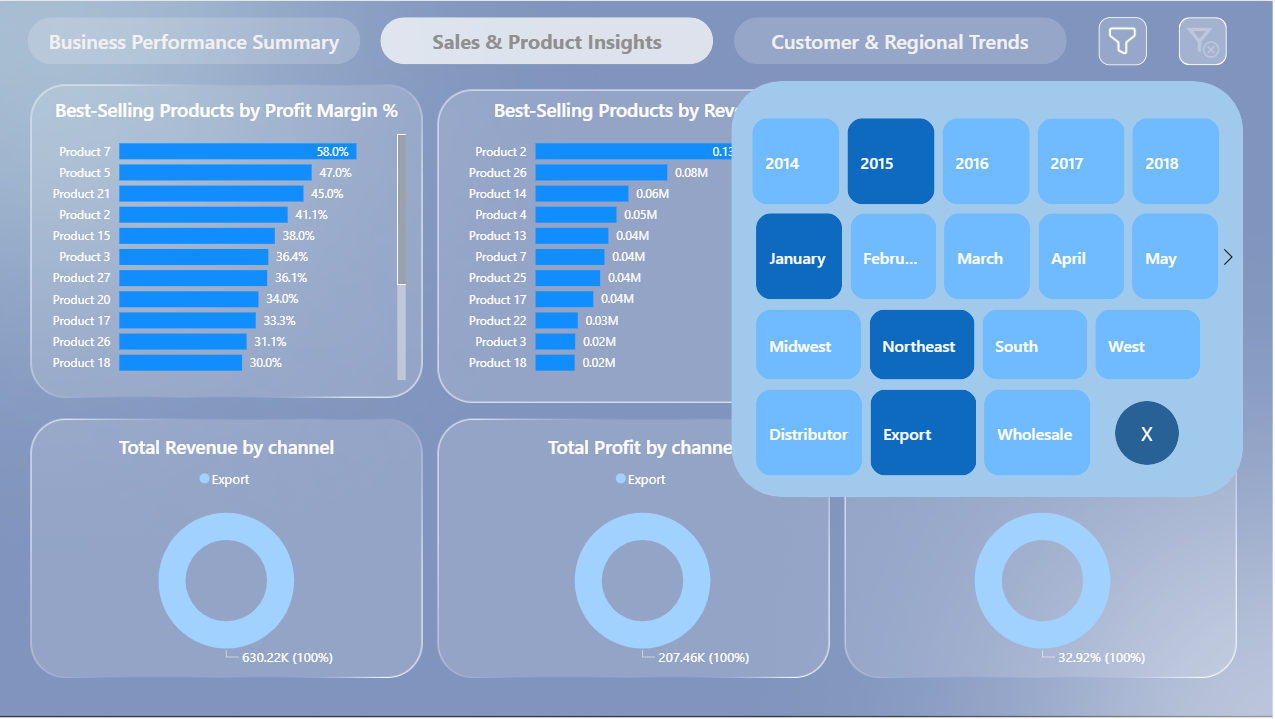

The dashboard page shown, as its layout file describes it:
{"tool":"powerbi","page":{"name":"Sales & Product Insights","canvas":[1280,720],"ordinal":1},"visuals":[{"type":"barChart","title":"Best-Selling Products by Profit Margin %","fields":{"Category":["EDA_MASTER_DATA.product_name"],"Y":["Query1.Profit Margin %"]},"box":[48,96,368,288],"z":0},{"type":"barChart","title":"Best-Selling Products by Revenue","fields":{"Category":["EDA_MASTER_DATA.product_name"],"Y":["Sum(EDA_MASTER_DATA.revenue)"]},"box":[464,96,352,288],"z":1000},{"type":"scatterChart","title":"Profitability (%) by Price Points","fields":{"X":["Customer Summary.Total Revenue"],"Y":["Customer Summary.Avg Profit Margin %"],"Size":["Sum(Customer Summary.Order Count)"]},"box":[864,96,368,288],"z":2000},{"type":"donutChart","fields":{"Category":["EDA_MASTER_DATA.channel"],"Y":["Query1.Total Revenue"]},"box":[48,432,368,240],"z":3000},{"type":"donutChart","fields":{"Category":["EDA_MASTER_DATA.channel"],"Y":["Query1.Profit Margin %"]},"box":[864,432,368,240],"z":4000},{"type":"donutChart","fields":{"Category":["EDA_MASTER_DATA.channel"],"Y":["Query1.Total Profit"]},"box":[464,432,368,240],"z":5000},{"type":"image","box":[1104,16,48,48],"z":6000},{"type":"actionButton","box":[1184,16,48,48],"z":8000},{"type":"pageNavigator","box":[32,16,1040,48],"z":9000}]}

Visuals, with their boxes in screenshot pixels (x1, y1, x2, y2), scaled from the page's 1280x720 canvas onto the 1275x719 screenshot:
"Best-Selling Products by Profit Margin %" barChart: x1=48, y1=96, x2=414, y2=383
"Best-Selling Products by Revenue" barChart: x1=462, y1=96, x2=813, y2=383
"Profitability (%) by Price Points" scatterChart: x1=861, y1=96, x2=1227, y2=383
donutChart - EDA_MASTER_DATA.channel x Query1.Total Revenue: x1=48, y1=431, x2=414, y2=671
donutChart - EDA_MASTER_DATA.channel x Query1.Profit Margin %: x1=861, y1=431, x2=1227, y2=671
donutChart - EDA_MASTER_DATA.channel x Query1.Total Profit: x1=462, y1=431, x2=829, y2=671
image: x1=1100, y1=16, x2=1148, y2=64
actionButton: x1=1179, y1=16, x2=1227, y2=64
pageNavigator: x1=32, y1=16, x2=1068, y2=64
